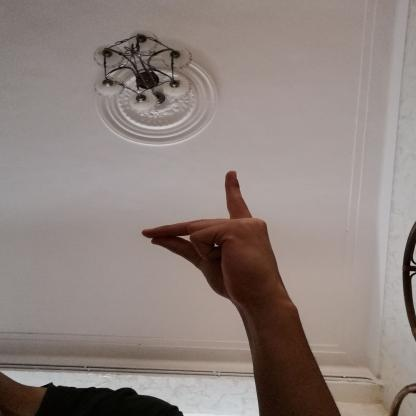TAA: (131, 165, 292, 312)
